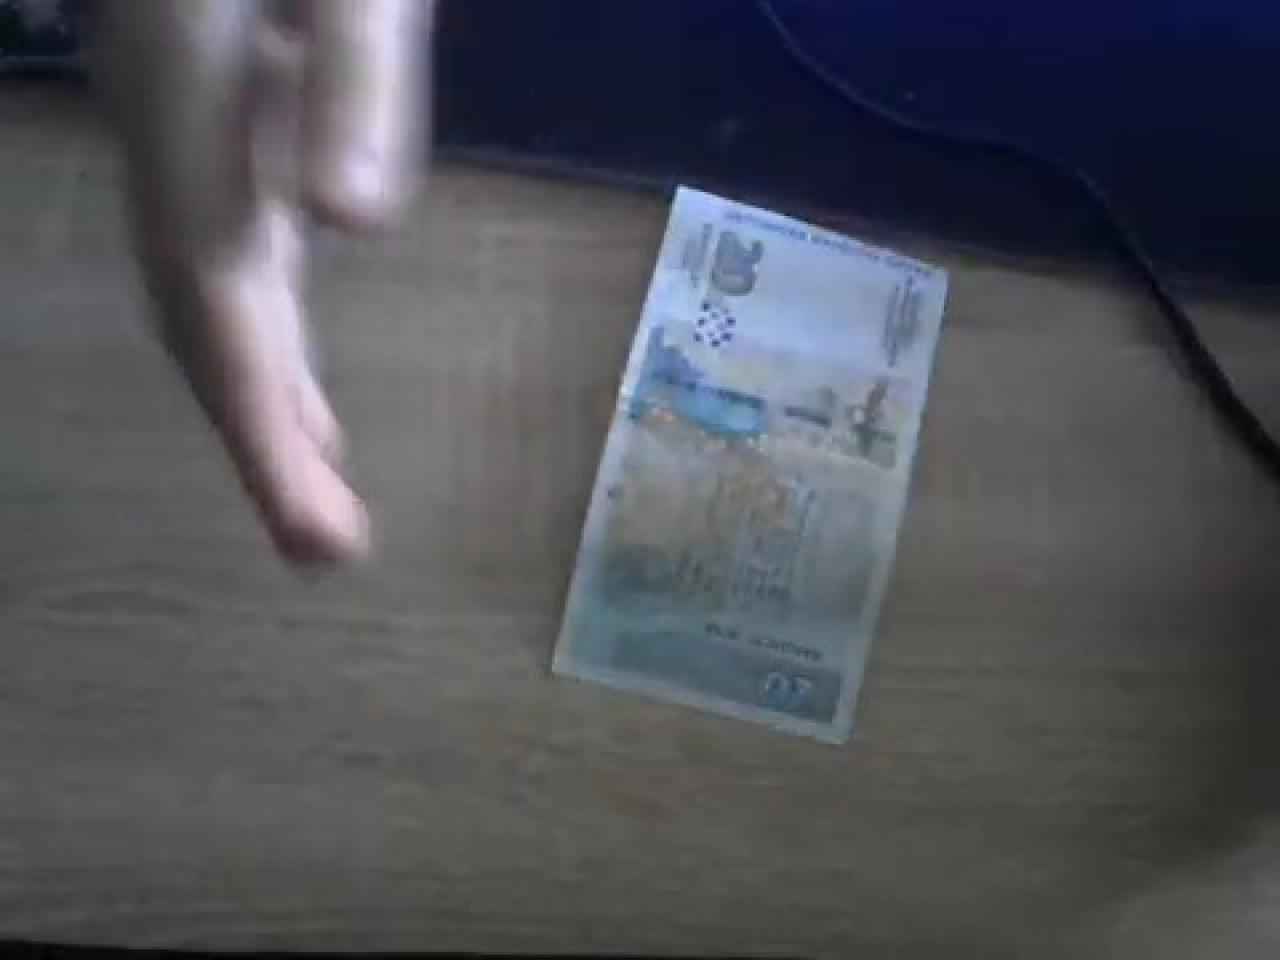20leva: (544, 178, 952, 746)
